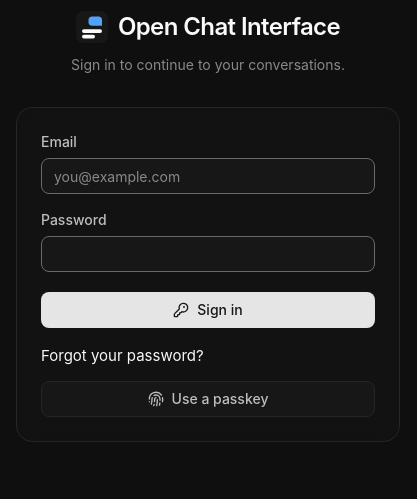
Test case: Use a passkey › says calmly that it was cancelled and leaves the form to use
The image size is (417, 499).
Click the button "Use a passkey" at (208, 399), box [41,381,375,417]
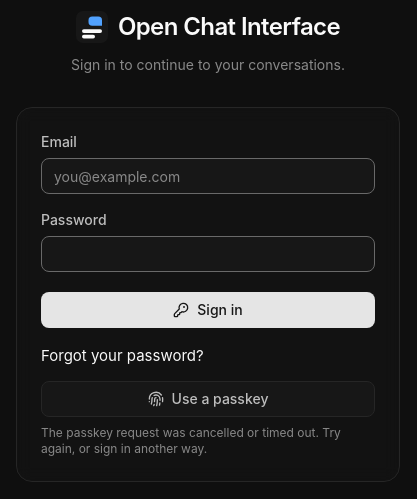
Result: the message shows "The passkey request was cancelled or timed out. Try again, or sign in another way." at [41,425,341,456]
